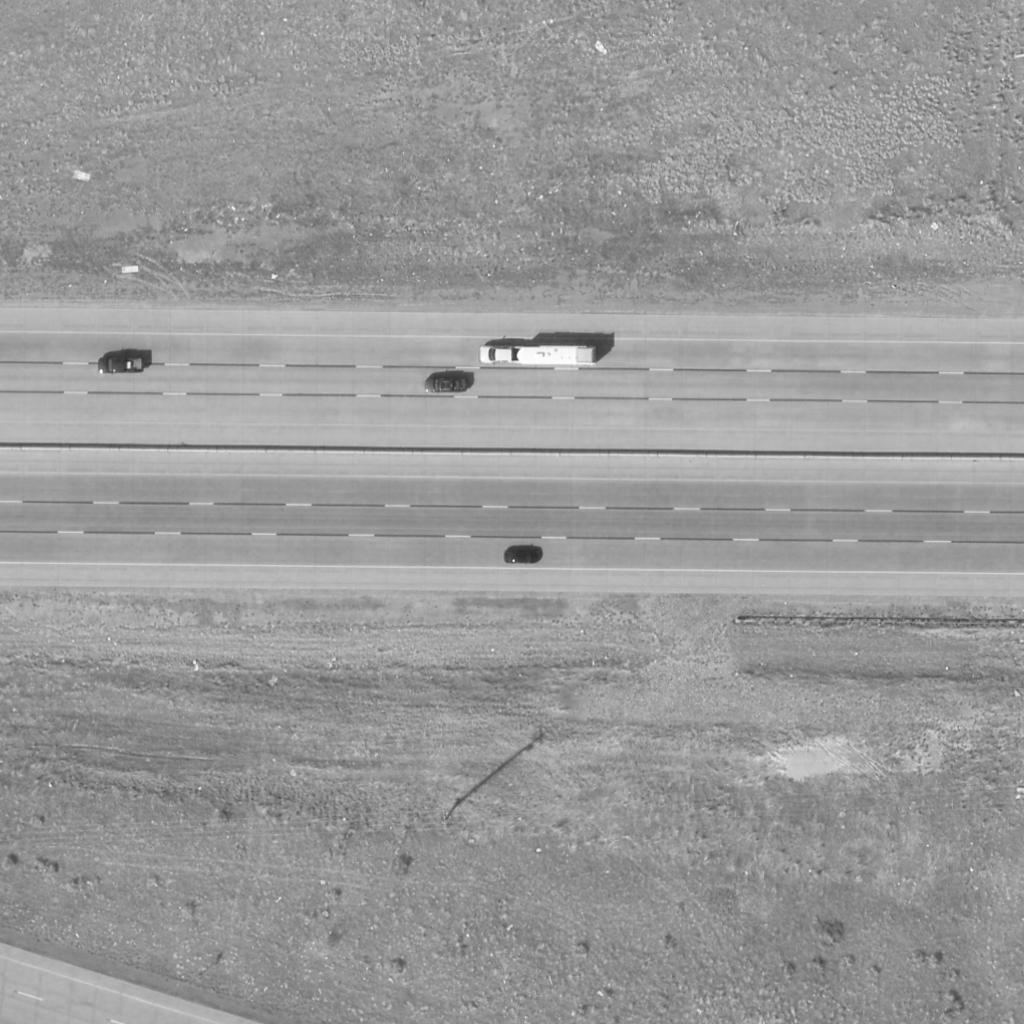vehicle: (519, 344, 599, 368), (479, 345, 531, 367), (98, 357, 144, 375), (425, 376, 469, 394), (505, 549, 539, 565)
